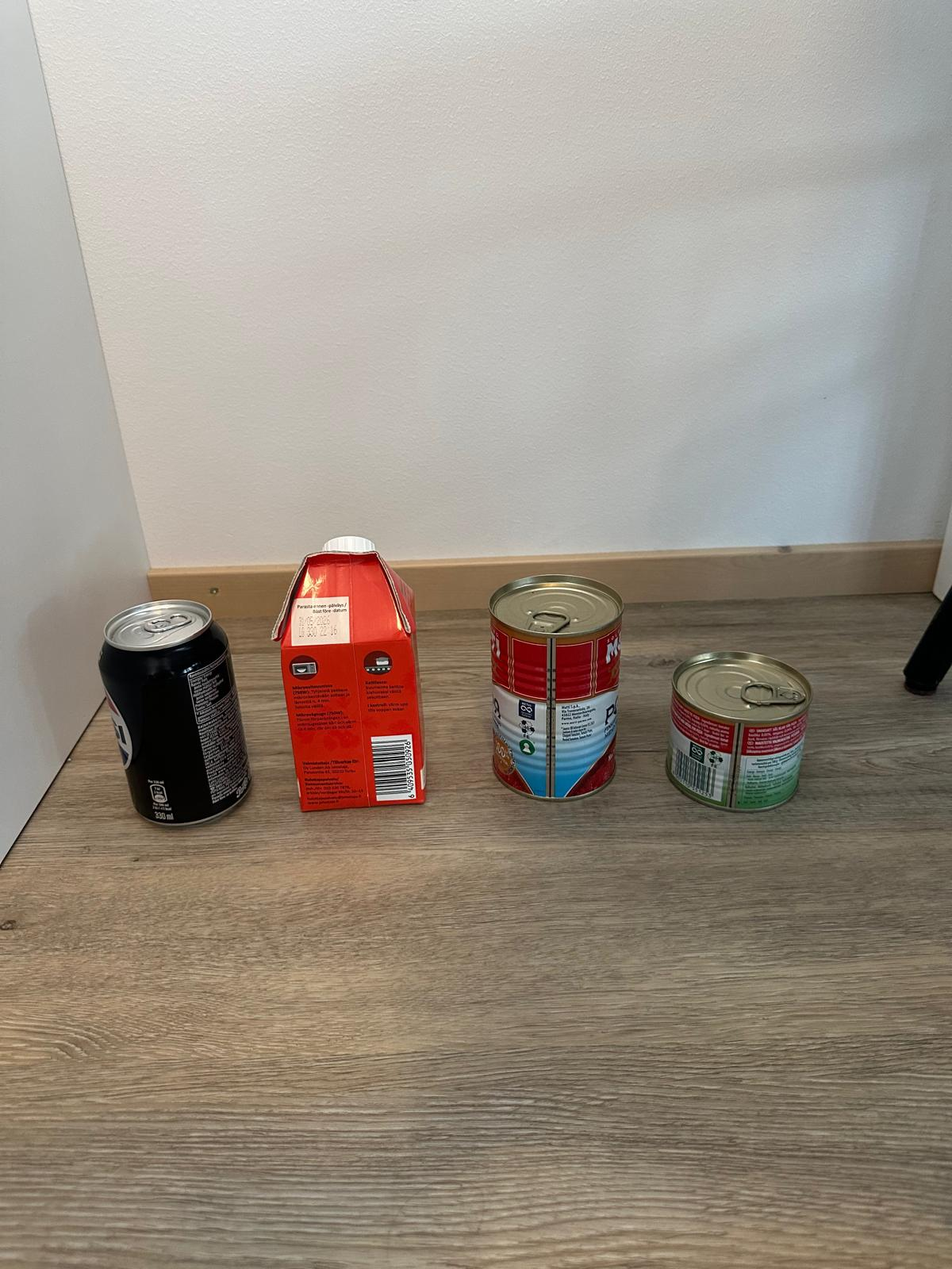Dryckeskartong: (271, 535, 428, 813)
Konservburk: (487, 573, 625, 802), (665, 650, 813, 814)
Pantburk: (98, 599, 253, 828)
